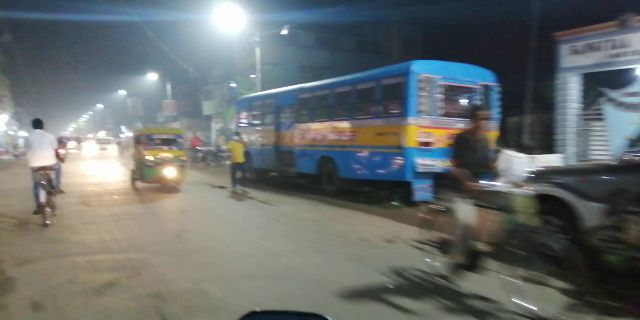Autorickshaw: (130, 124, 193, 193)
Bus: (238, 61, 490, 202)
Cycle: (18, 111, 73, 231)
